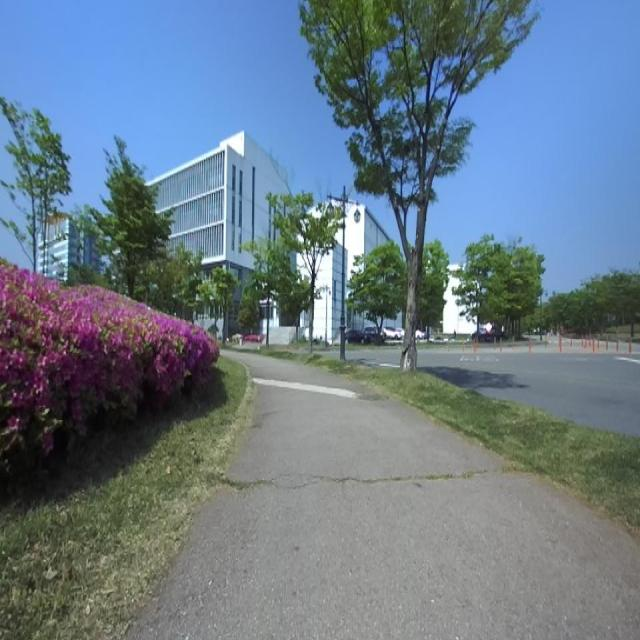sidewalk: (122, 349, 640, 639)
